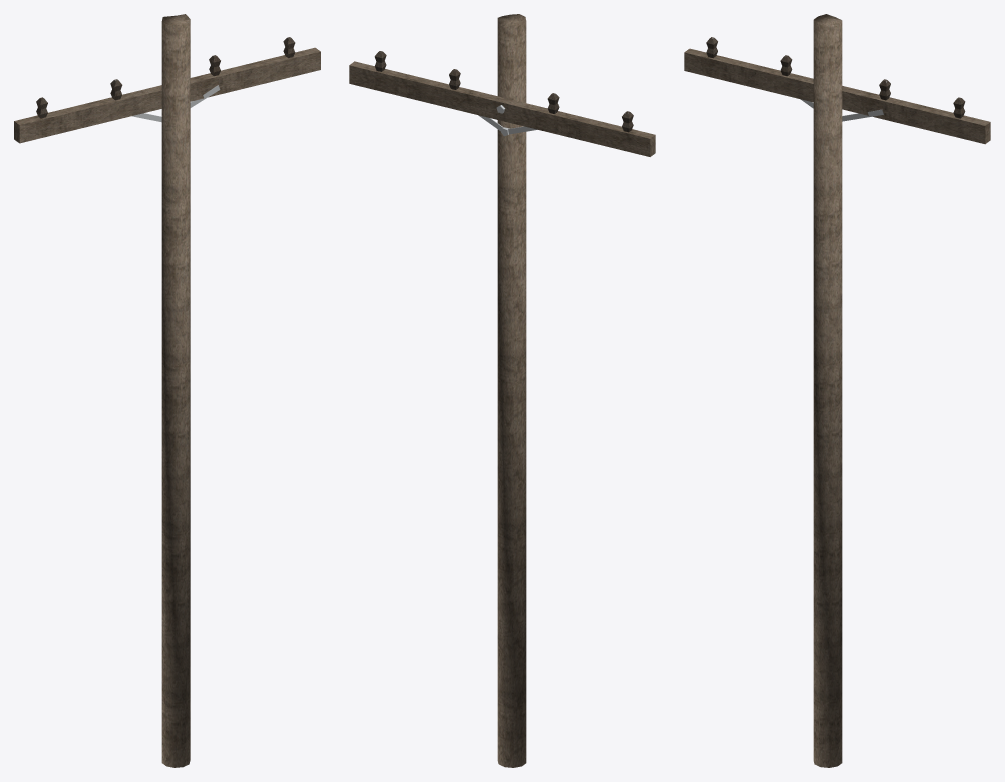
The model's file is wood_pole.glb.
3 renders of one model, left to right at view 1: azimuth 30°, elevation 25°; view 2: azimuth 150°, elevation 25°; view 3: azimuth 330°, elevation 25°, orthographic.
Parts seen in each view (by area): view 1: WoodPole_WoodPole_0; view 2: WoodPole_WoodPole_0; view 3: WoodPole_WoodPole_0.
Part boxes in pixels (x1=…): WoodPole_WoodPole_0: x1=14, y1=14, x2=320, y2=767; WoodPole_WoodPole_0: x1=349, y1=14, x2=655, y2=767; WoodPole_WoodPole_0: x1=684, y1=14, x2=990, y2=767.
Size of the model in its own units: 212 by 501 by 25.39.
1 material, 1 textured.
